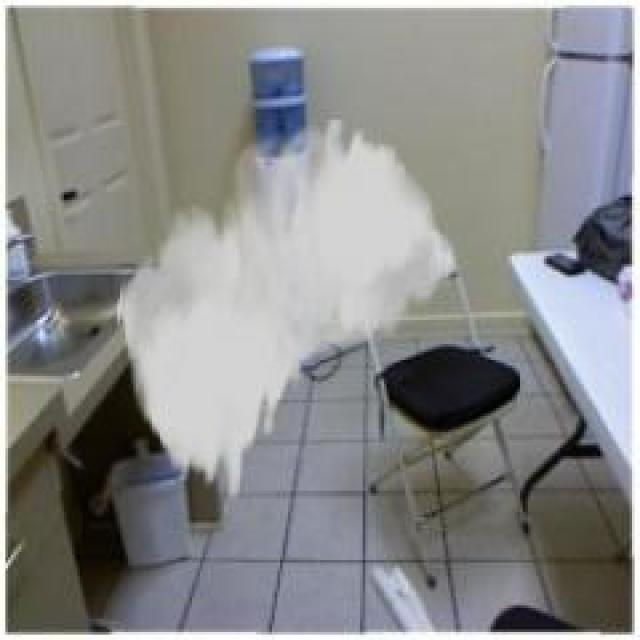Smoke: (110, 118, 470, 500)
